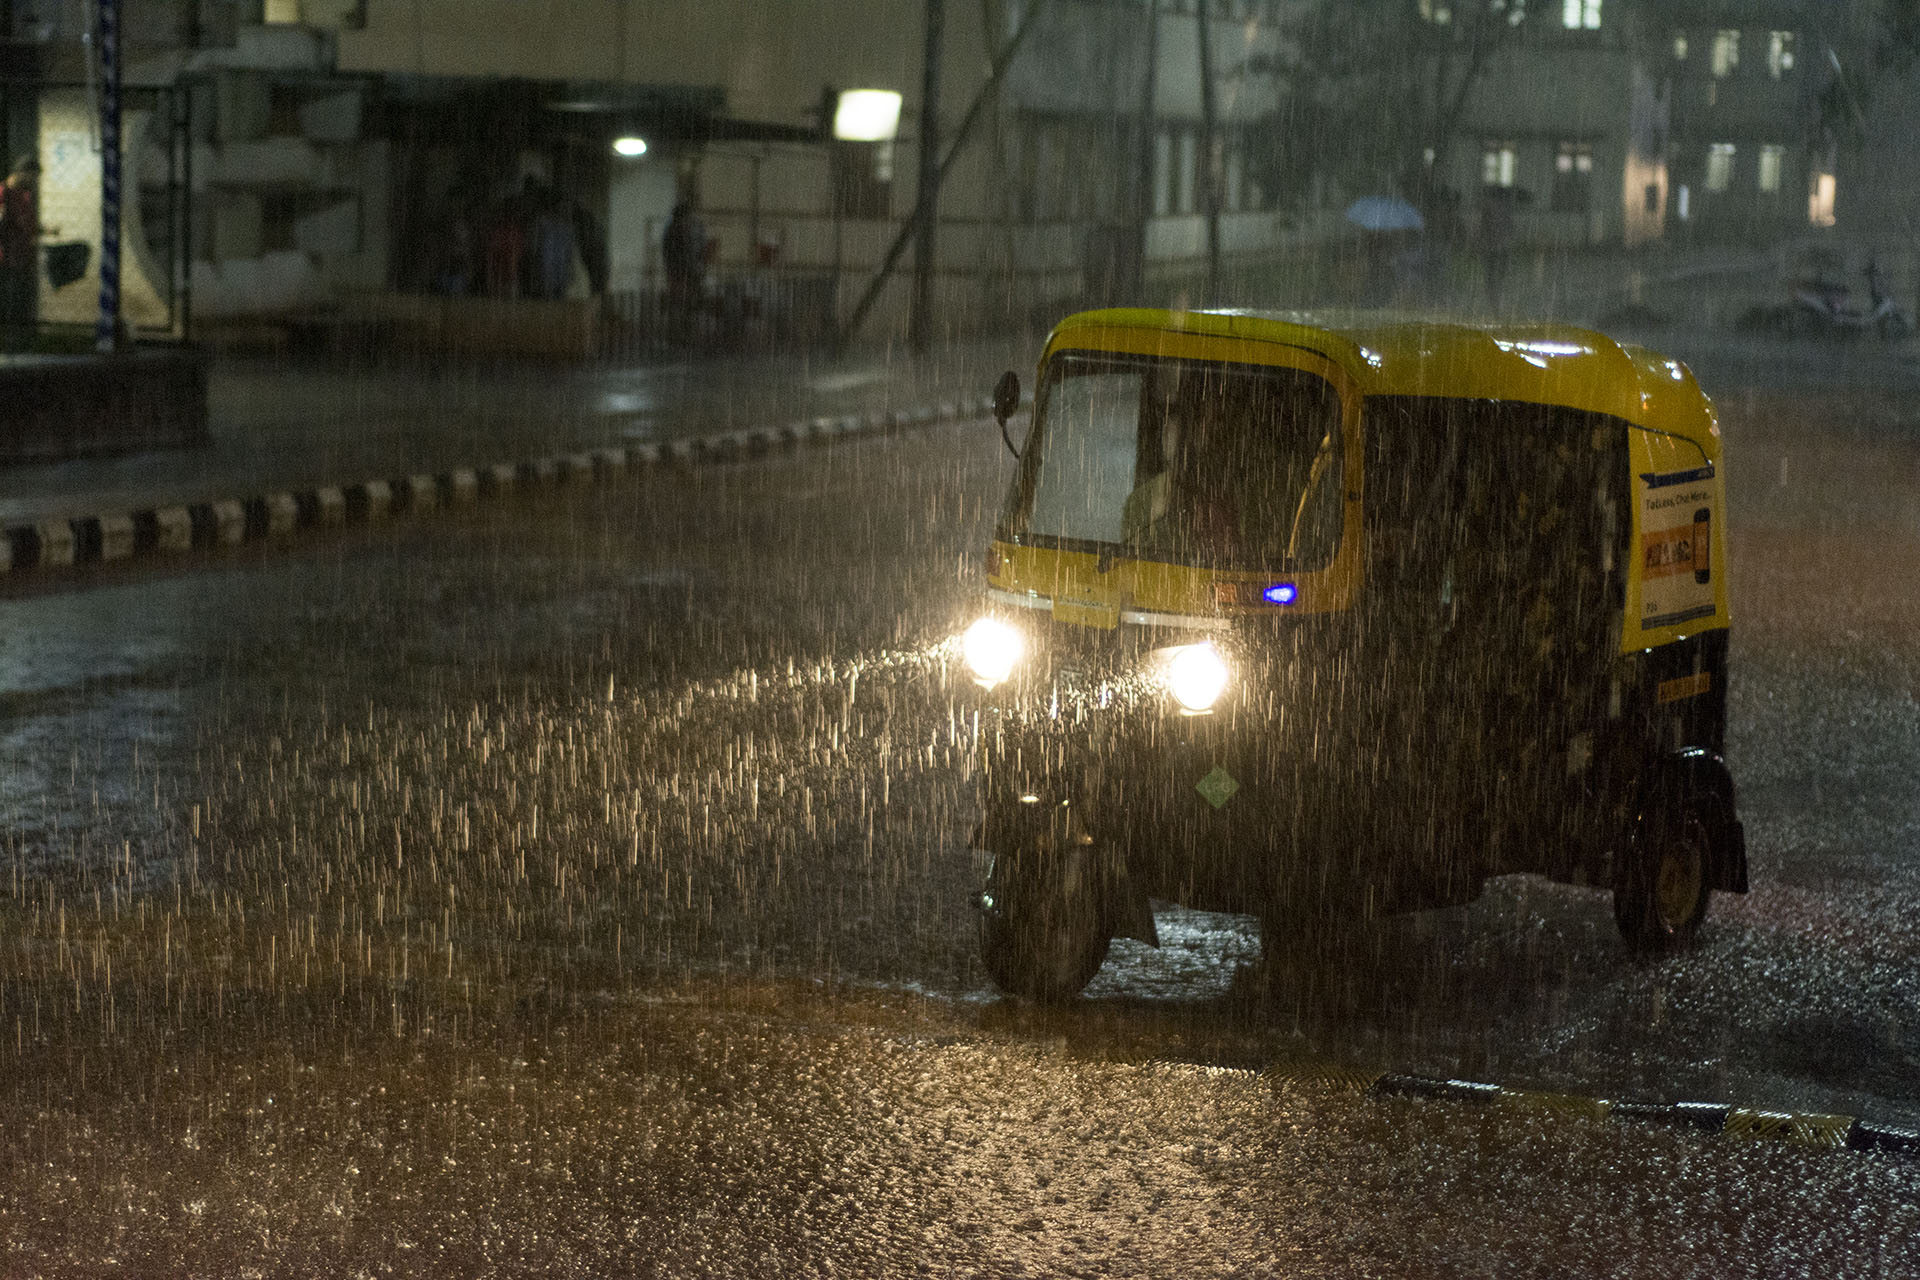rickshaw: (941, 287, 1753, 1001)
